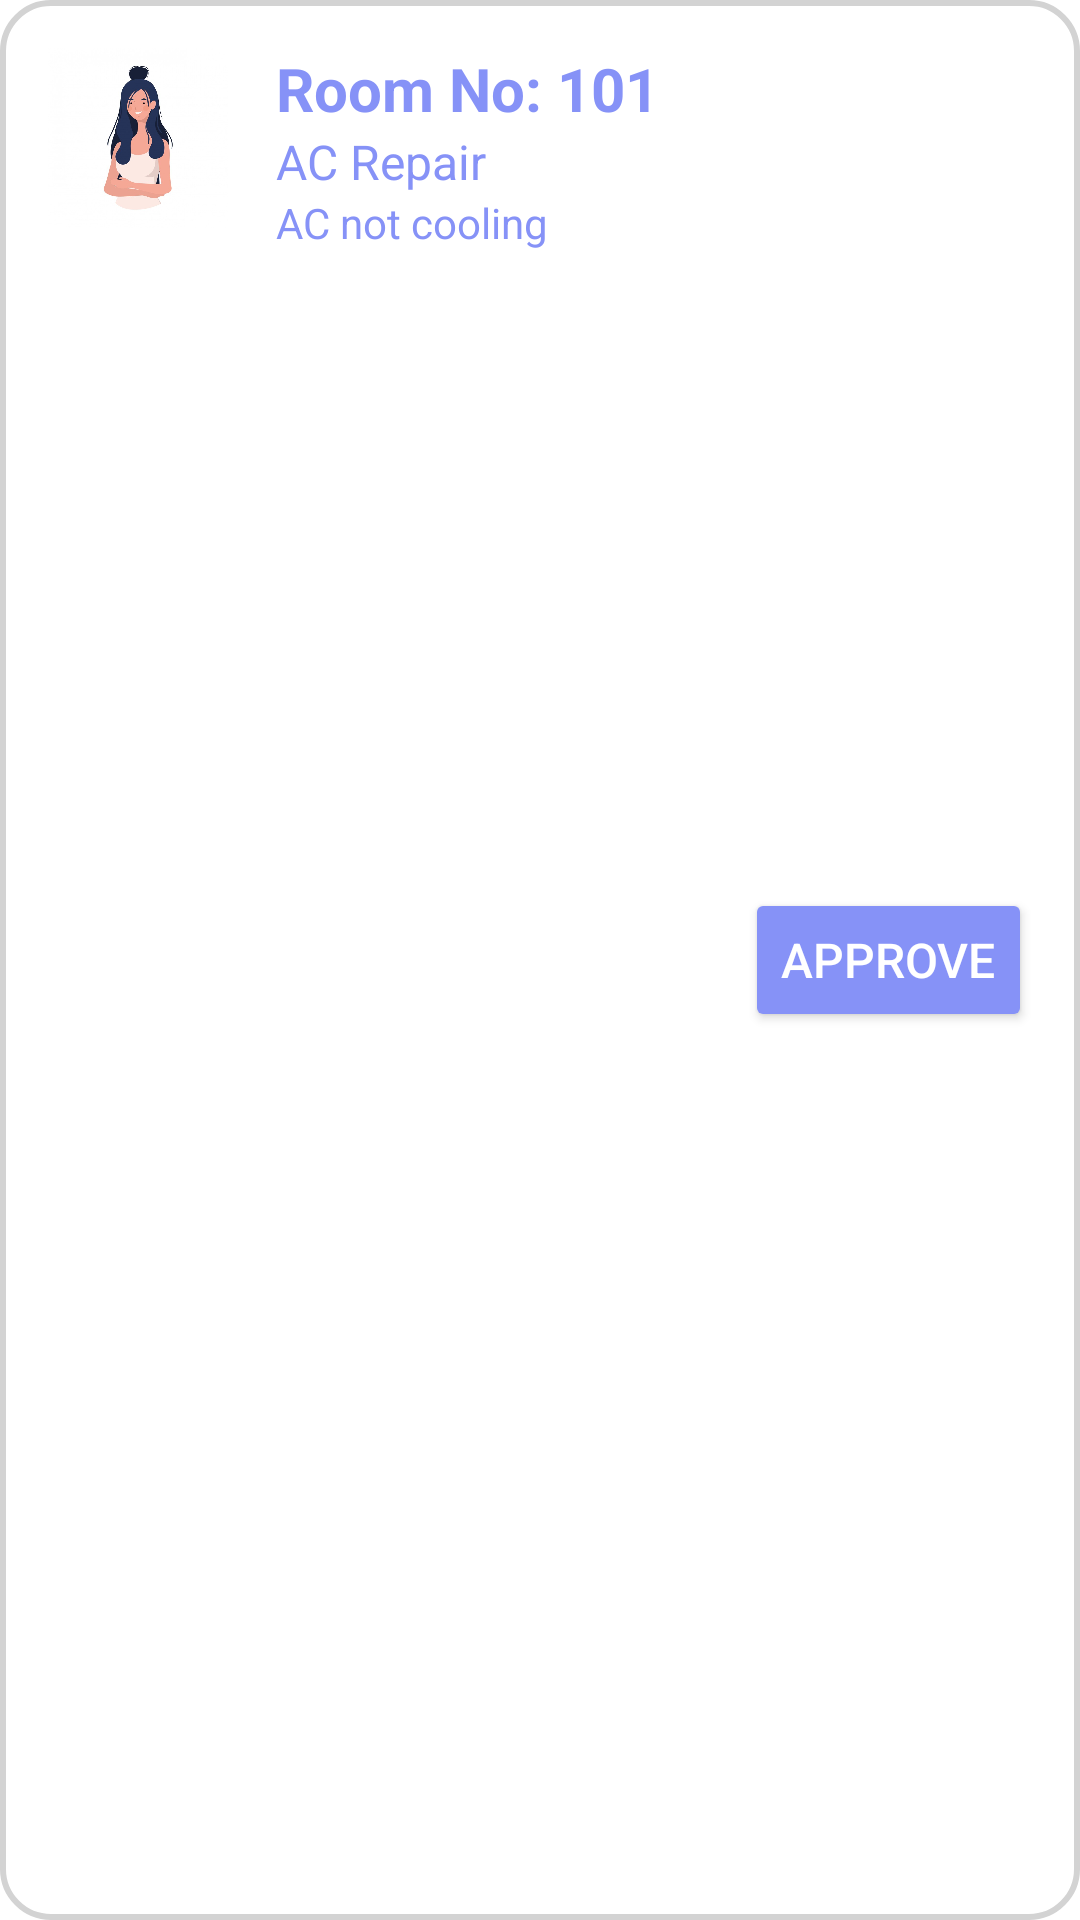

Icons on this 1080w x 1920h Android screen, each with the point to tap as (x,y):
woman: (138,138)
